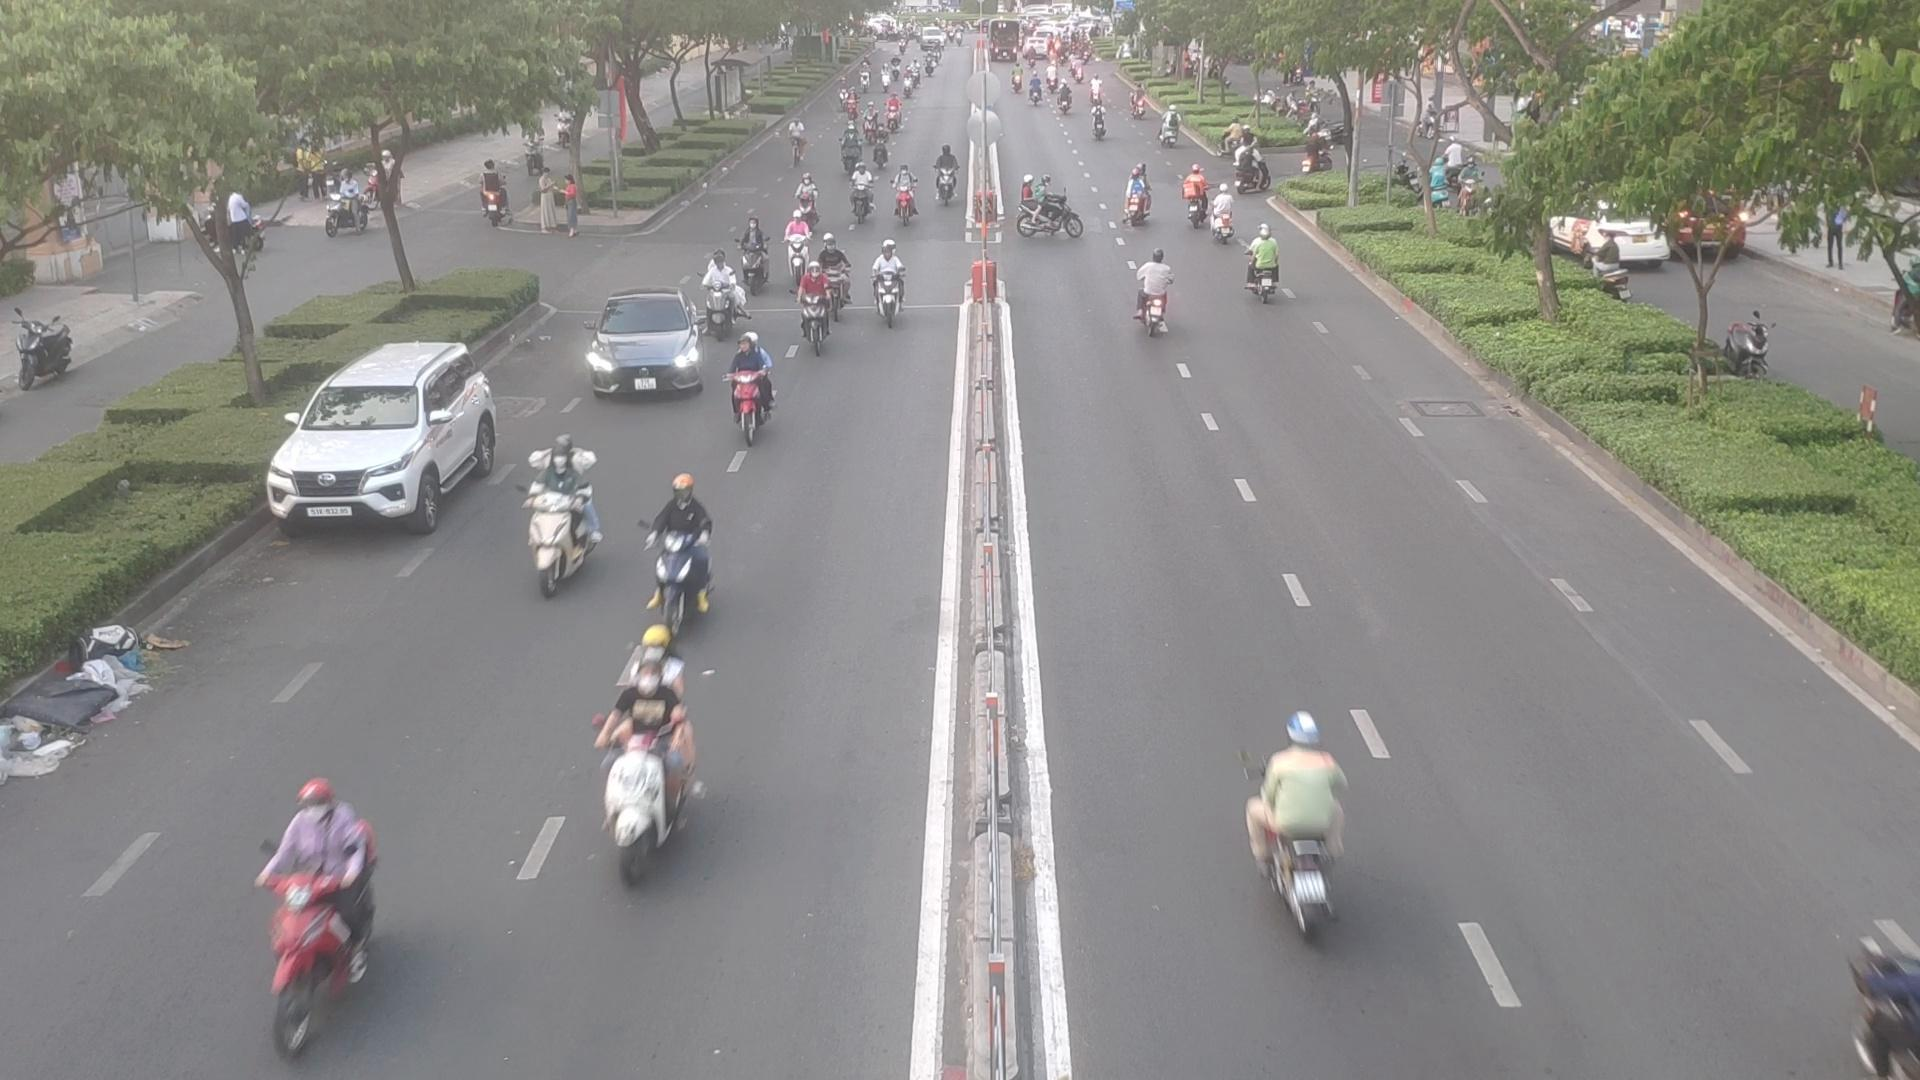car: (269, 342, 514, 534), (580, 291, 708, 400)
motorbike: (241, 778, 394, 1044), (1232, 712, 1356, 938), (596, 675, 703, 872), (516, 443, 601, 584), (1853, 911, 1920, 1073), (641, 475, 715, 615), (721, 334, 783, 439), (1015, 179, 1087, 249), (698, 260, 753, 338), (1129, 255, 1178, 338), (1241, 229, 1294, 301), (794, 262, 833, 357), (866, 247, 910, 330), (733, 218, 771, 290), (822, 243, 852, 320), (887, 166, 919, 225), (785, 214, 819, 266), (1126, 171, 1159, 225), (1182, 165, 1211, 225), (1211, 181, 1236, 247), (934, 146, 957, 208), (796, 173, 819, 231), (839, 123, 862, 175), (853, 164, 872, 225), (872, 123, 891, 171)
